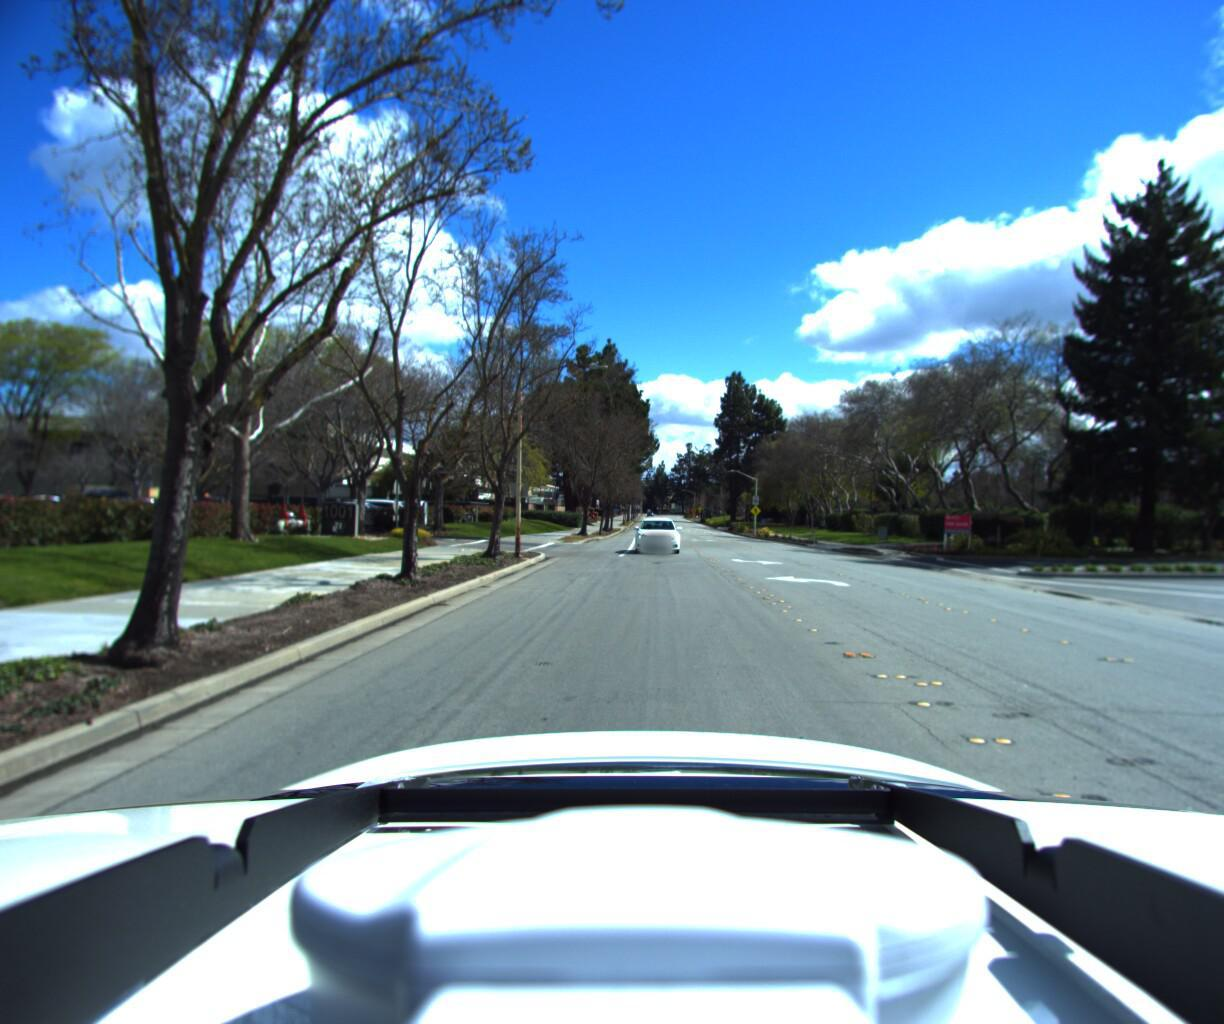car: (632, 523, 678, 564)
